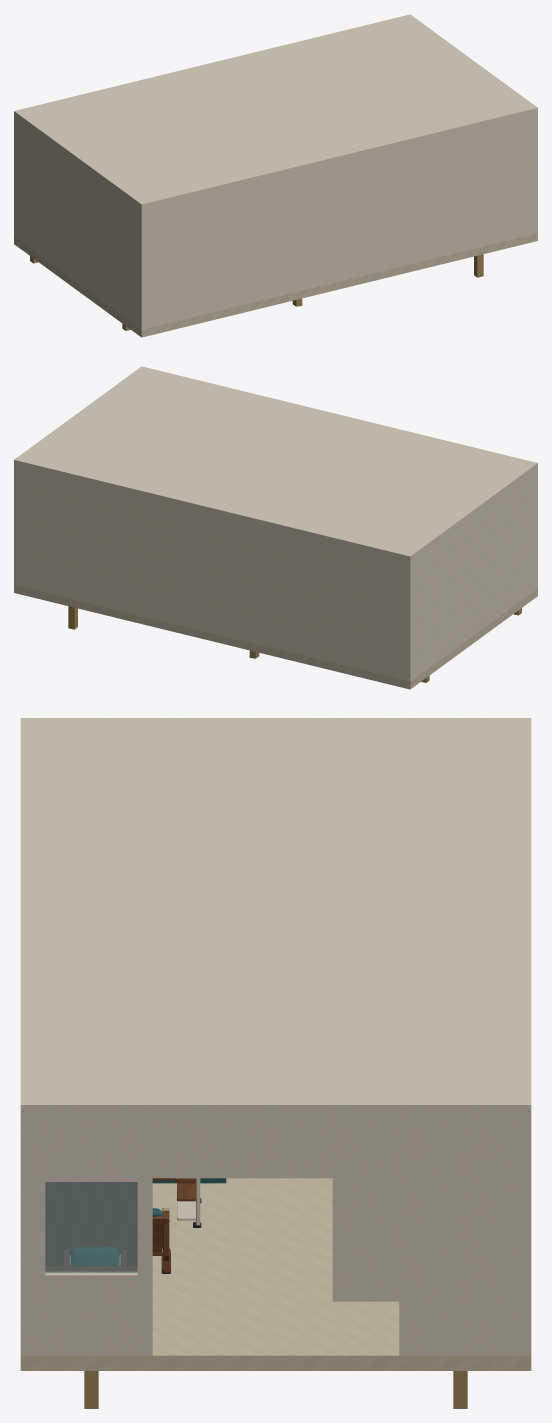
Rendered from StarAtlasSpecialty_575.glb.
3 renders of one model, top to bottom at view 1: azimuth 30°, elevation 25°; view 2: azimuth 150°, elevation 25°; view 3: azimuth 270°, elevation 25°, orthographic. The views are drawn at different scales.
Parts seen in each view (by area): view 1: SA575_Ceiling, SA575_NorthSide, SA575_OpaqueRearBoundary, SA575_RoomFloor; view 2: SA575_Ceiling, SA575_SouthSide, SA575_OpaqueRearBoundary, SA575_RoomFloor; view 3: SA575_Ceiling, SA575_RoomFloor, SA575_EntryShoulderSouth, SA575_EntryHeader, SA575_StreetWindowLower, SA575_ScreenedStreetGlass, SA575_WashEntrySide, SA575_StreetWindowUpper, SA575_EntryPrivacyDogleg, SA575_NorthSide, SA575_SouthSide, SA575_StreetWindowOuterPier (+2 smaller).
Part boxes in pixels (x1=…): SA575_Ceiling: x1=14, y1=14, x2=537, y2=209; SA575_NorthSide: x1=139, y1=113, x2=537, y2=329; SA575_OpaqueRearBoundary: x1=16, y1=118, x2=139, y2=327; SA575_RoomFloor: x1=14, y1=233, x2=537, y2=337; SA575_Ceiling: x1=14, y1=366, x2=537, y2=561; SA575_SouthSide: x1=14, y1=465, x2=412, y2=681; SA575_OpaqueRearBoundary: x1=412, y1=470, x2=535, y2=679; SA575_RoomFloor: x1=14, y1=585, x2=537, y2=689; SA575_Ceiling: x1=20, y1=718, x2=531, y2=1115; SA575_RoomFloor: x1=20, y1=1178, x2=531, y2=1370; SA575_EntryShoulderSouth: x1=399, y1=1115, x2=522, y2=1355; SA575_EntryHeader: x1=148, y1=1115, x2=403, y2=1178; SA575_StreetWindowLower: x1=29, y1=1272, x2=152, y2=1355; SA575_ScreenedStreetGlass: x1=45, y1=1182, x2=137, y2=1272; SA575_WashEntrySide: x1=332, y1=1178, x2=399, y2=1301; SA575_StreetWindowUpper: x1=29, y1=1115, x2=152, y2=1181; SA575_EntryPrivacyDogleg: x1=45, y1=1182, x2=137, y2=1265; SA575_NorthSide: x1=20, y1=1115, x2=28, y2=1355; SA575_SouthSide: x1=523, y1=1115, x2=531, y2=1355; SA575_StreetWindowOuterPier: x1=29, y1=1182, x2=45, y2=1275.
Size of the model in its own units: 12.9 by 5.31 by 7.2.
Materials: 79 (49 with a texture image).
